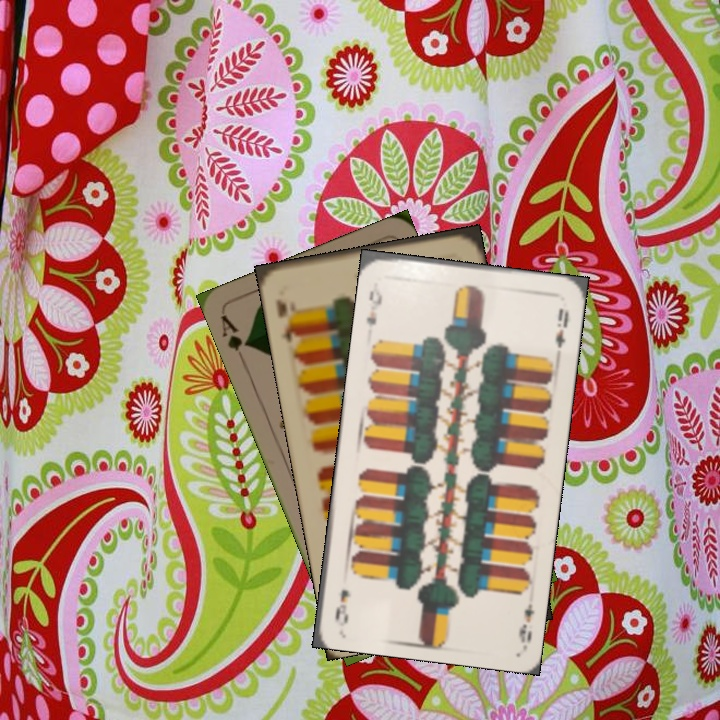E10: (271, 295, 302, 346)
E9: (362, 278, 385, 329), (514, 600, 537, 645)
GA: (216, 310, 253, 354)
